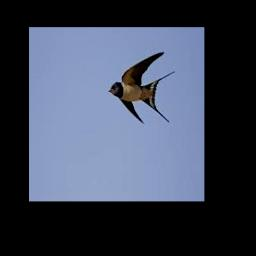Swallow: (108, 51, 176, 123)
